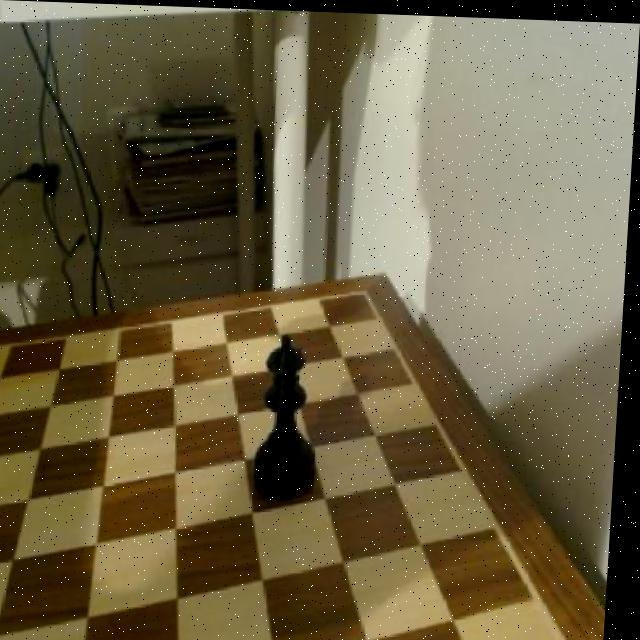black-pawn: (253, 336, 329, 502)
